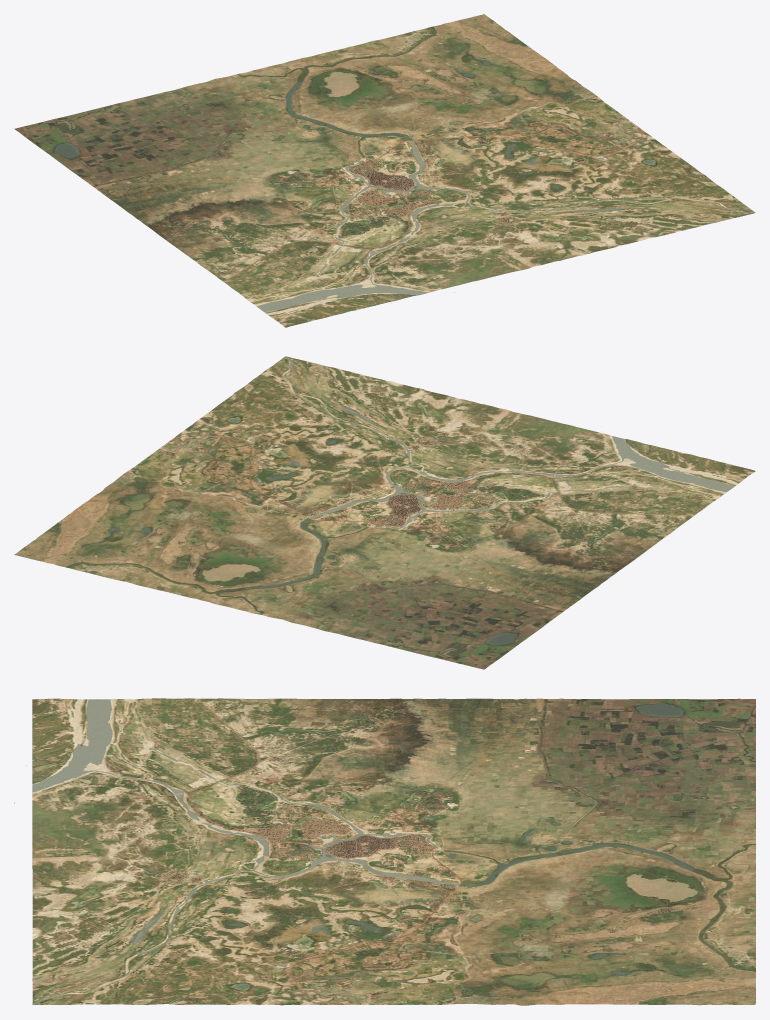
The model's file is djenne-ville-leger-mobile.glb.
3 views of the same model, one above another, from view 1: azimuth 30°, elevation 25°; view 2: azimuth 150°, elevation 25°; view 3: azimuth 270°, elevation 25° (orthographic). The views are drawn at different scales.
Parts seen in each view (by area): view 1: Sol_Large_z16, Sol_Ville_z18, Fleuve_Eau; view 2: Sol_Large_z16, Sol_Ville_z18, Fleuve_Eau; view 3: Sol_Large_z16, Sol_Ville_z18, Fleuve_Eau.
Boxes of the visible parts, left/top/right/bottom form: Sol_Large_z16: left=14, top=14, right=754, bottom=327; Sol_Ville_z18: left=283, top=134, right=488, bottom=221; Fleuve_Eau: left=54, top=46, right=755, bottom=311; Sol_Large_z16: left=14, top=356, right=755, bottom=669; Sol_Ville_z18: left=296, top=465, right=501, bottom=551; Fleuve_Eau: left=92, top=356, right=734, bottom=645; Sol_Large_z16: left=32, top=698, right=755, bottom=1005; Sol_Ville_z18: left=273, top=804, right=474, bottom=890; Fleuve_Eau: left=32, top=699, right=694, bottom=1004.
Bounding box in the file's own units: 12724 × 58.16 × 13046.
7 materials, 4 textured.
